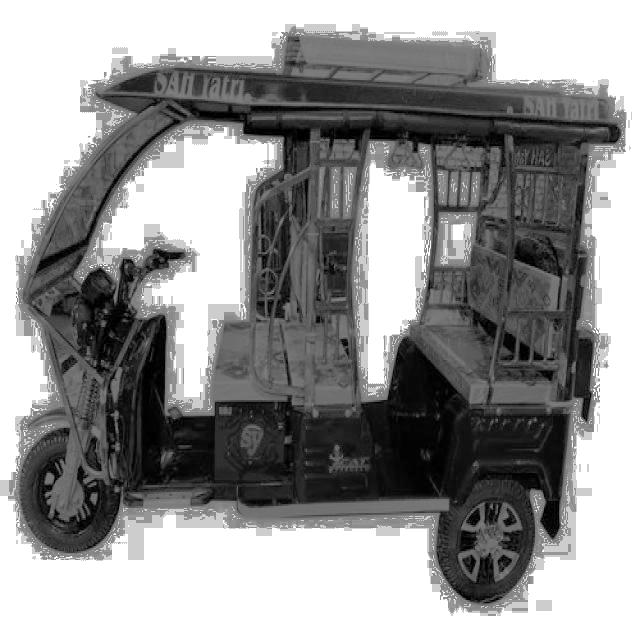Toto: (26, 60, 617, 604)
